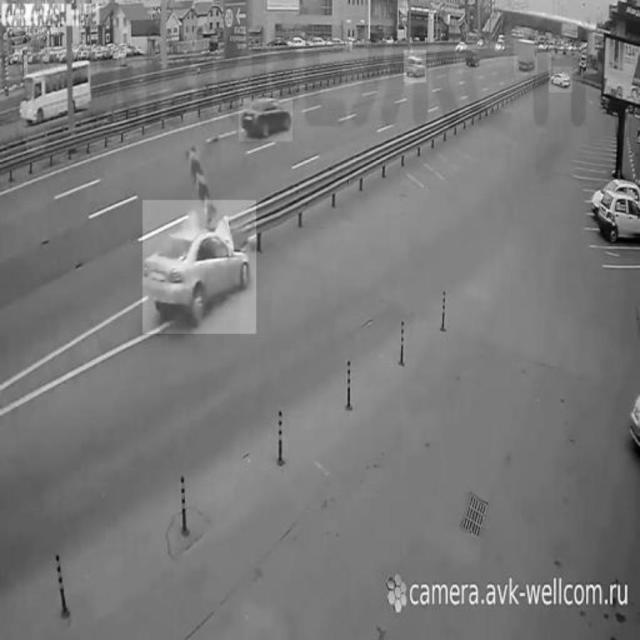accident: (143, 200, 256, 334)
vehicle: (22, 60, 94, 124), (596, 190, 640, 242), (239, 99, 293, 141), (514, 34, 538, 75), (405, 50, 427, 82), (549, 67, 573, 93)
